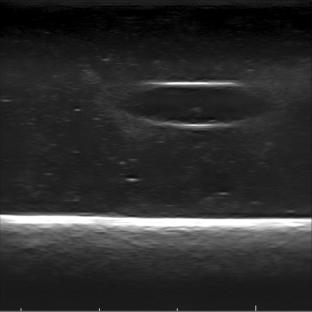vessel: (138, 79, 249, 130)
